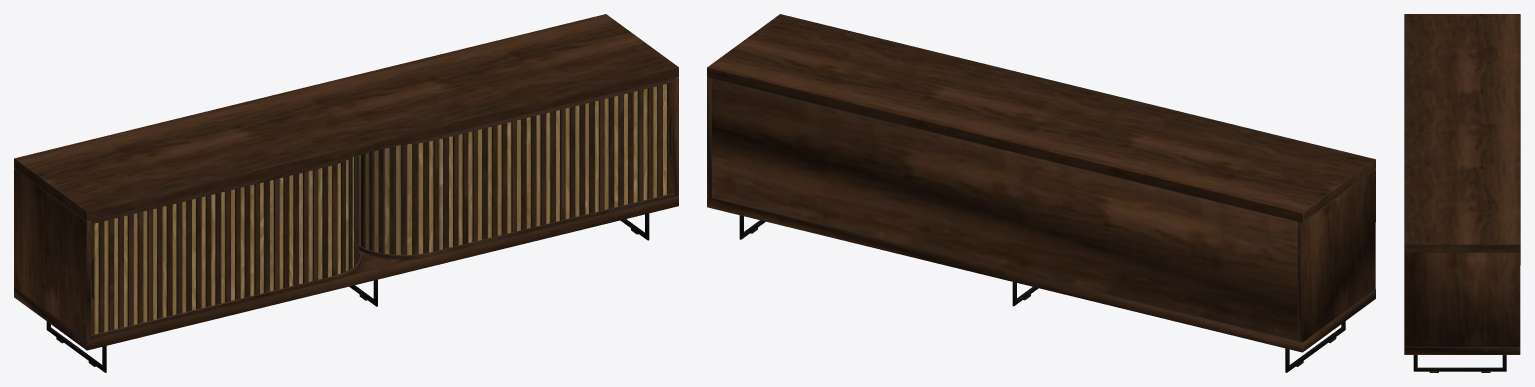
The model's file is modern_wooden_cabinet.glb.
The picture shows the model from 3 angles, left to right: view 1: azimuth 30°, elevation 25°; view 2: azimuth 150°, elevation 25°; view 3: azimuth 270°, elevation 25°; orthographic projection. The views are drawn at different scales.
Parts seen in each view (by area): view 1: modern_wooden_cabinet_body, modern_wooden_cabinet_door_l; view 2: modern_wooden_cabinet_body; view 3: modern_wooden_cabinet_body.
Boxes of the visible parts, <box> form: modern_wooden_cabinet_body: <box>14,14,678,372</box>; modern_wooden_cabinet_door_l: <box>91,82,672,335</box>; modern_wooden_cabinet_body: <box>707,14,1375,372</box>; modern_wooden_cabinet_body: <box>1404,14,1520,372</box>.
Bounding box in the file's own units: 2.44 × 0.6802 × 0.5199.
Materials: 1 (1 with a texture image).
